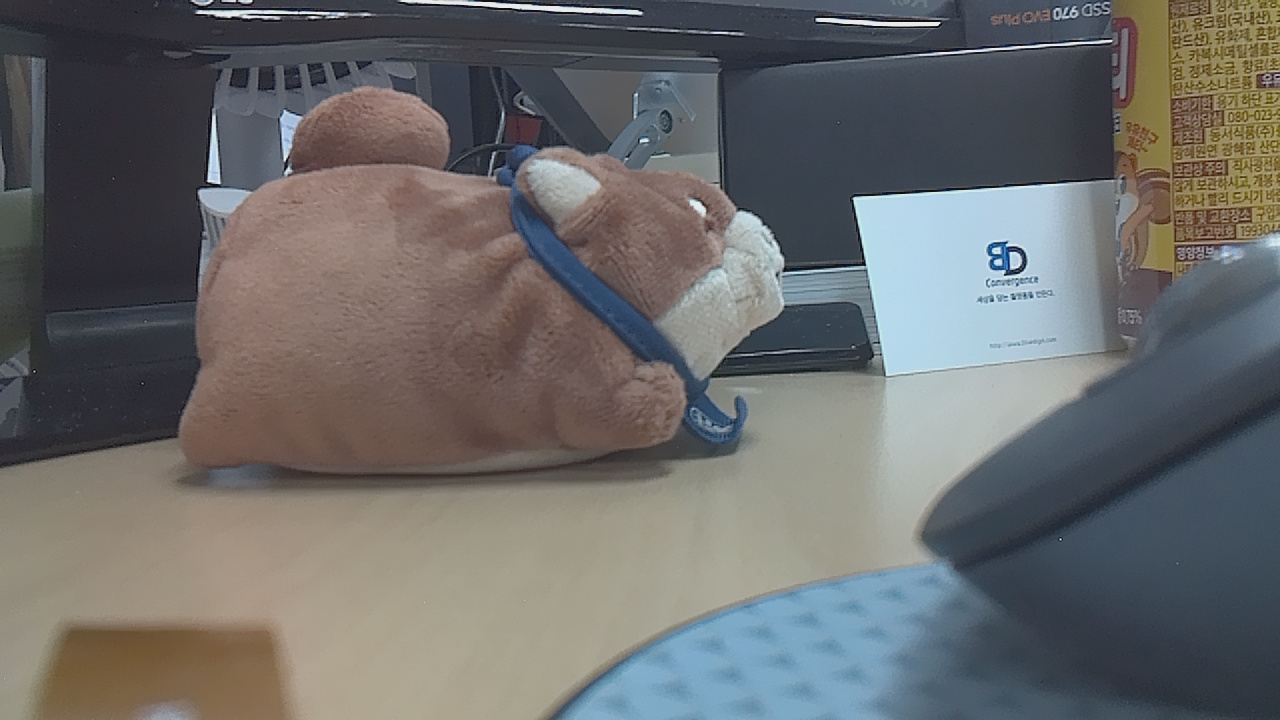cuteDog: (195, 67, 809, 491)
